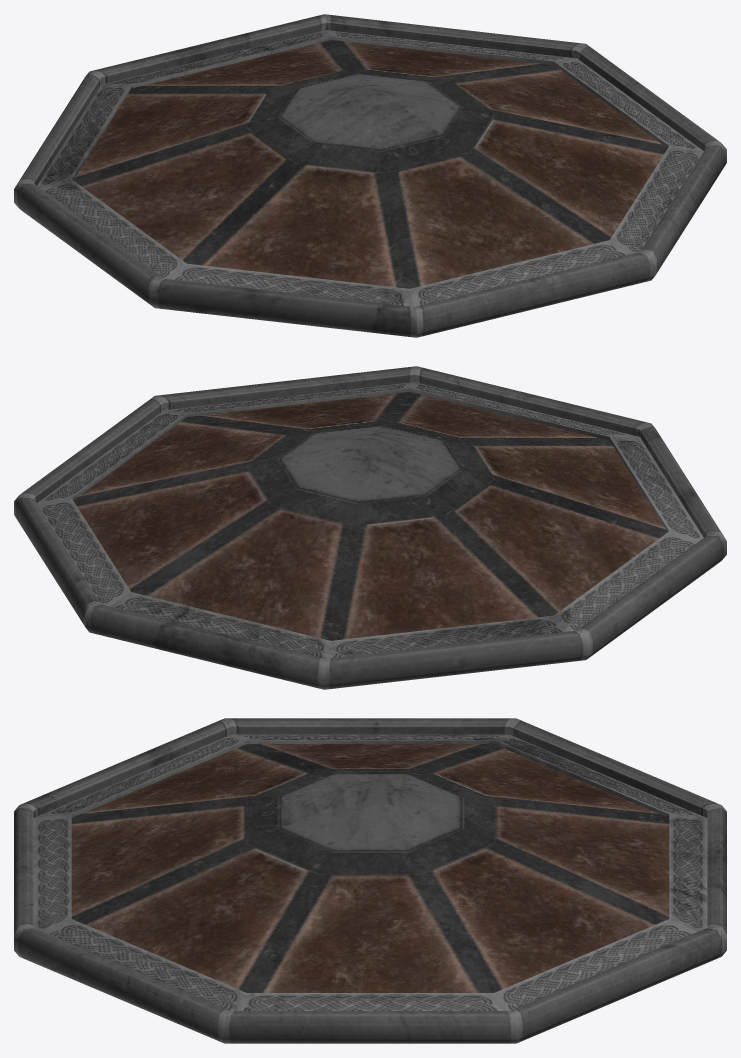
File: sm_dwarf_erebor_shield_leather_d.fbx
The picture shows the model from 3 angles, top to bottom: view 1: azimuth 30°, elevation 25°; view 2: azimuth 150°, elevation 25°; view 3: azimuth 270°, elevation 25°; orthographic projection. The views are drawn at different scales.
Parts seen in each view (by area): view 1: sm_dwarf_erebor_shield_leather_d; view 2: sm_dwarf_erebor_shield_leather_d; view 3: sm_dwarf_erebor_shield_leather_d.
Part boxes in pixels (x1,y1,x2,y2): sm_dwarf_erebor_shield_leather_d: [14, 14, 726, 337]; sm_dwarf_erebor_shield_leather_d: [14, 366, 726, 689]; sm_dwarf_erebor_shield_leather_d: [14, 718, 726, 1043].
Bounding box in the file's own units: 0.6475 × 0.6475 × 0.1447.
Materials: 1 (1 with a texture image).
